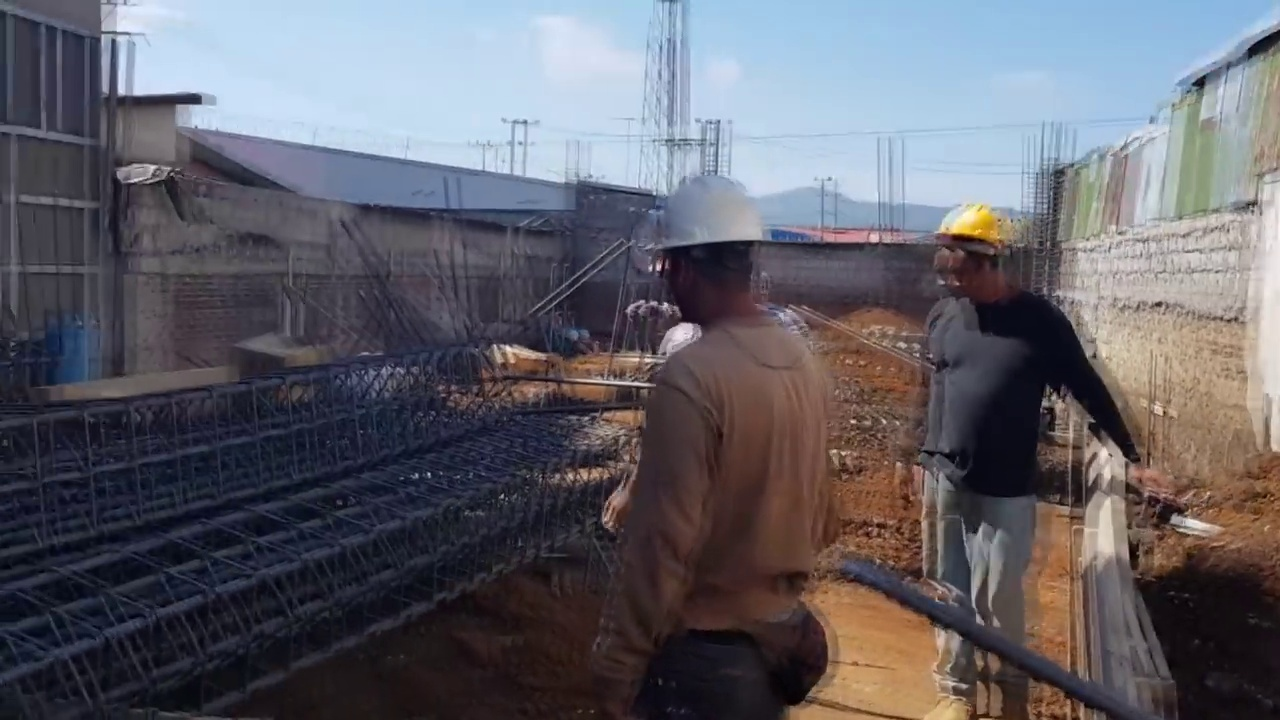helmet: (637, 168, 781, 270), (933, 202, 1017, 260)
helmet-on: (644, 167, 779, 332), (938, 203, 1022, 312)
person: (569, 154, 837, 713), (913, 187, 1151, 704)
